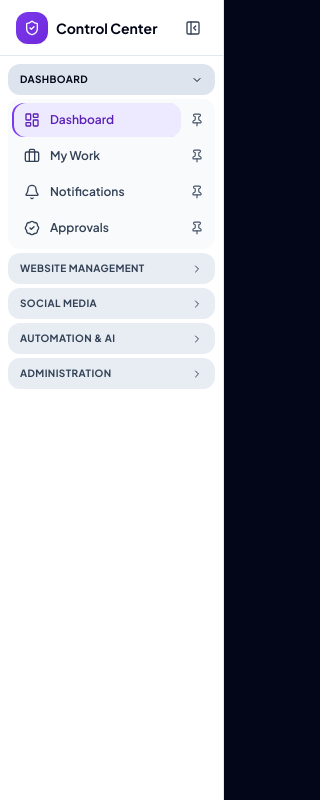
Test: Sidebar › falls back to collapsed for an invalid stored section
Click the button "Social Media" at {"x": 112, "y": 304}, box [8,288,215,319]
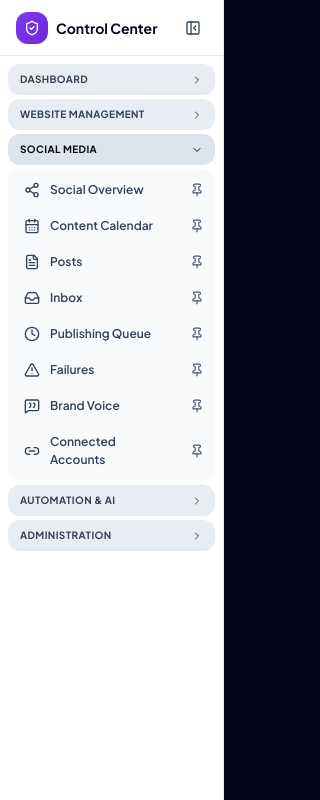
Now the button "Social Media" is expanded, box [8,134,215,165]
Now the text "Social Overview" is shown, box [50,182,144,197]
